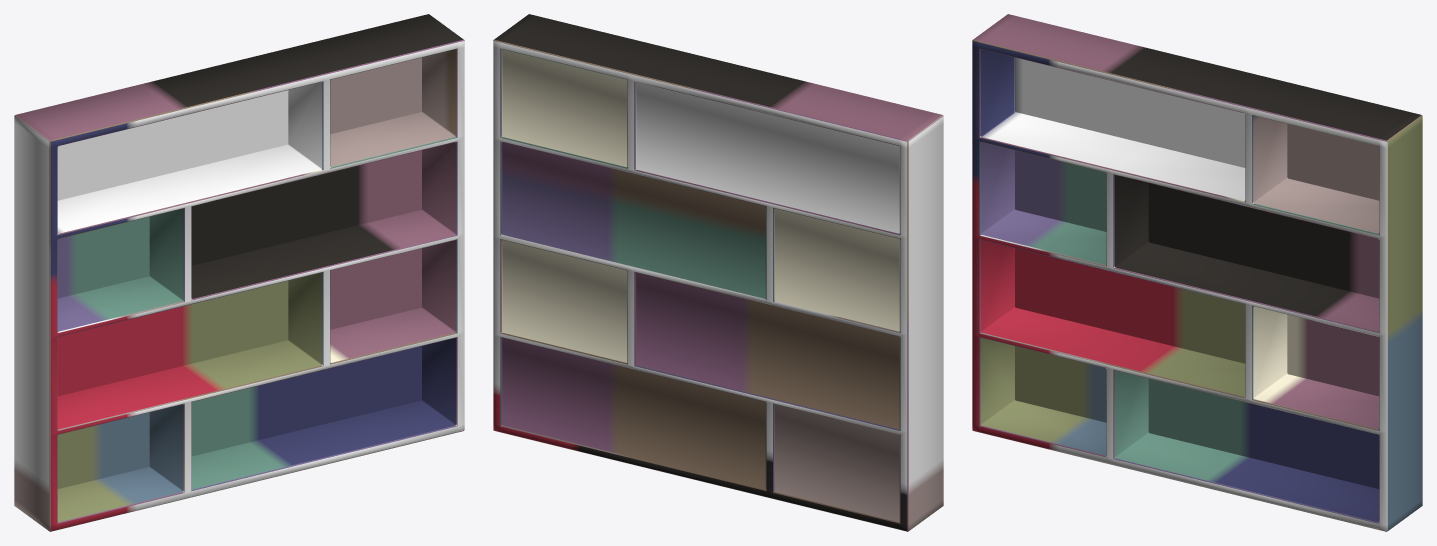
Rendered from SM_Bibliotheque.fbx.
3 views of the same model, side by side, from view 1: azimuth 30°, elevation 25°; view 2: azimuth 150°, elevation 25°; view 3: azimuth 330°, elevation 25° (orthographic).
Visible parts, largest first — view 1: Cube.001; view 2: Cube.001; view 3: Cube.001.
Part boxes in pixels (x1,y1,x2,y2): Cube.001: [14, 14, 464, 531]; Cube.001: [493, 14, 943, 531]; Cube.001: [972, 14, 1422, 531].
Bounding box in the file's own units: 200 × 180 × 30.
Materials: 1 (1 with a texture image).
